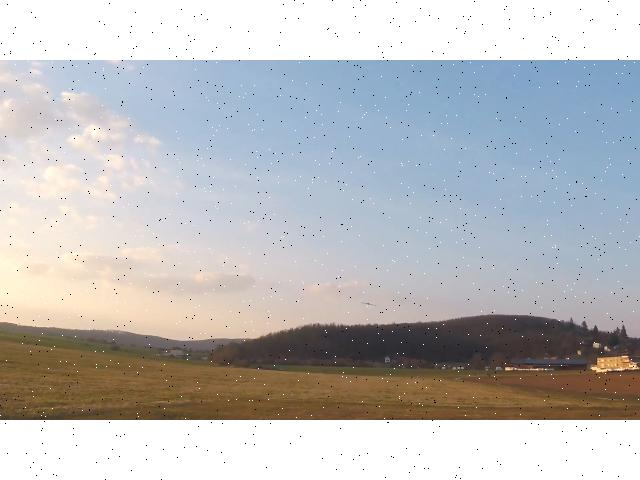Anti-Drone: (362, 302, 376, 308)
